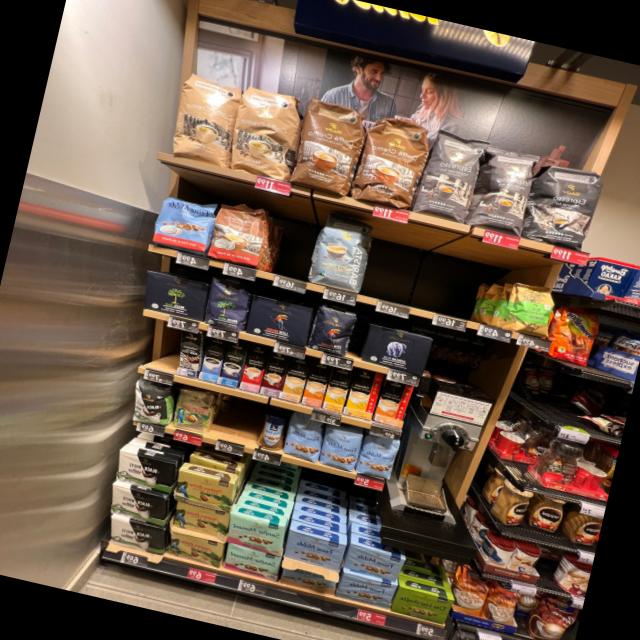AB Gemahlen: (358, 322, 434, 376)
Athiopien Bohne: (499, 277, 559, 340)
BM Bohne: (202, 274, 256, 333)
BM Gemahlen: (142, 269, 210, 322)
BW Bohne: (128, 378, 178, 430)
BW Gemahlen: (110, 448, 177, 494), (105, 482, 171, 528), (105, 512, 168, 556)
Barista CC: (304, 206, 378, 294)
Barista Espresso: (282, 530, 346, 570)
CC Mild: (223, 82, 311, 186), (164, 70, 245, 170)
CC Vollmundig: (202, 196, 277, 272)
CC Vollmundig 36 Pads: (348, 107, 436, 215), (288, 95, 376, 198)
Colombia BB Bohne: (170, 385, 218, 435)
Colombia BB Gemahlen: (172, 468, 240, 512), (164, 527, 228, 569), (169, 500, 232, 540)
Empty Shelf: (366, 248, 491, 322), (262, 216, 316, 278), (216, 400, 258, 444), (147, 323, 182, 371)
Espresso M Art: (520, 156, 606, 255), (412, 126, 492, 227), (464, 142, 542, 240)
FM 36 Pads: (148, 188, 220, 258)
FM Bohne: (316, 422, 366, 473), (354, 431, 402, 481), (281, 414, 326, 463)
FM Gemahlen: (339, 540, 406, 582), (333, 571, 398, 610)
FM Instant: (254, 409, 290, 453)
Herzhatfe Mundig: (389, 585, 456, 625)
LG Bohne: (305, 302, 360, 358)
LG Gemahlen: (242, 294, 316, 348)
SM Gemahlen: (223, 512, 287, 556), (220, 541, 285, 581)
Simo CCMild: (341, 366, 384, 422)
Simo CCMild bigpack: (319, 365, 352, 415)
Simo CCVollmundig: (371, 377, 414, 428)
Simo CCVollmundig bigpack: (300, 360, 332, 410)
Simo Decaff: (278, 354, 311, 404)
Simo Es Elegant: (237, 343, 270, 394)
Simo Es Kraft: (257, 351, 289, 399)
Simo Kaffee BW: (174, 326, 207, 378)
Simo Kaffee Kraft: (216, 336, 249, 389)
Simo Kaffee Mild: (196, 334, 226, 384)
